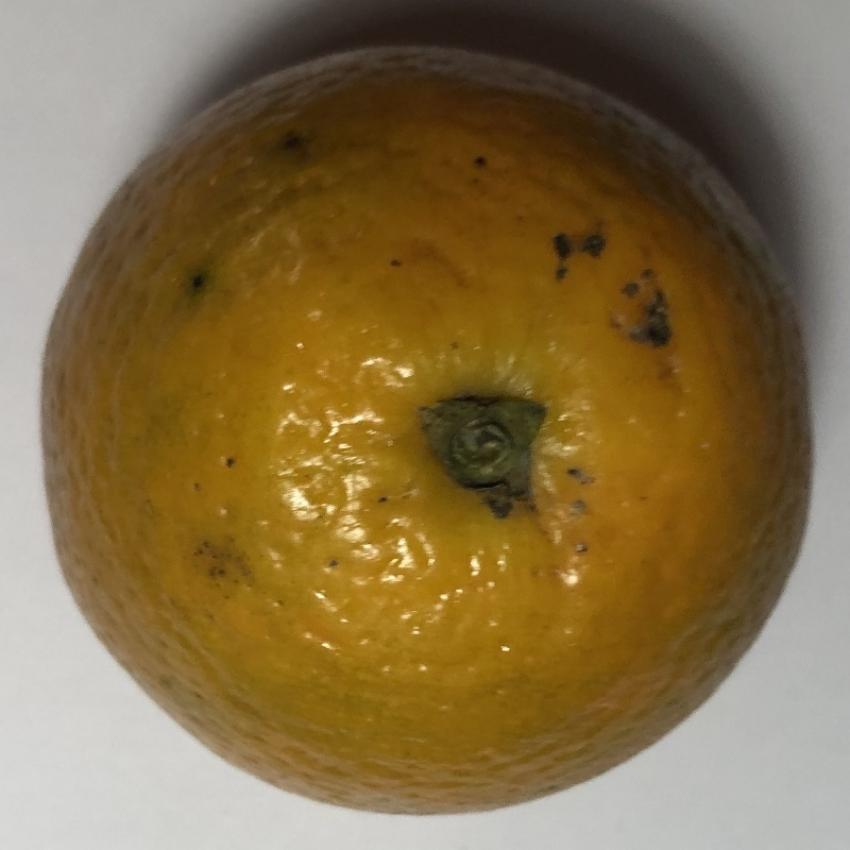Mal estado: (14, 38, 824, 826)
